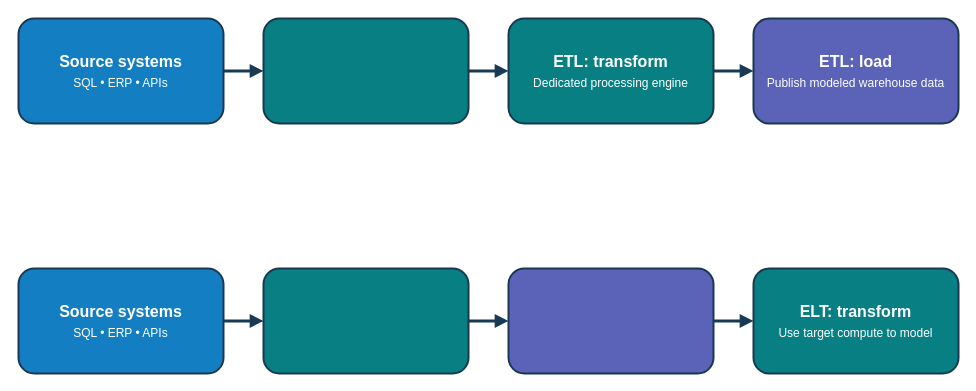
The diagram is 976 pixels wide and 391 high, and some of its shapes have lost their labels. Each missing label, with the box of its shape:
ELT: extract Capture original records: (262, 267, 469, 374)
ELT: load Land in cloud warehouse/lake: (507, 267, 714, 374)
ETL: extract Pull source records: (262, 17, 469, 124)
